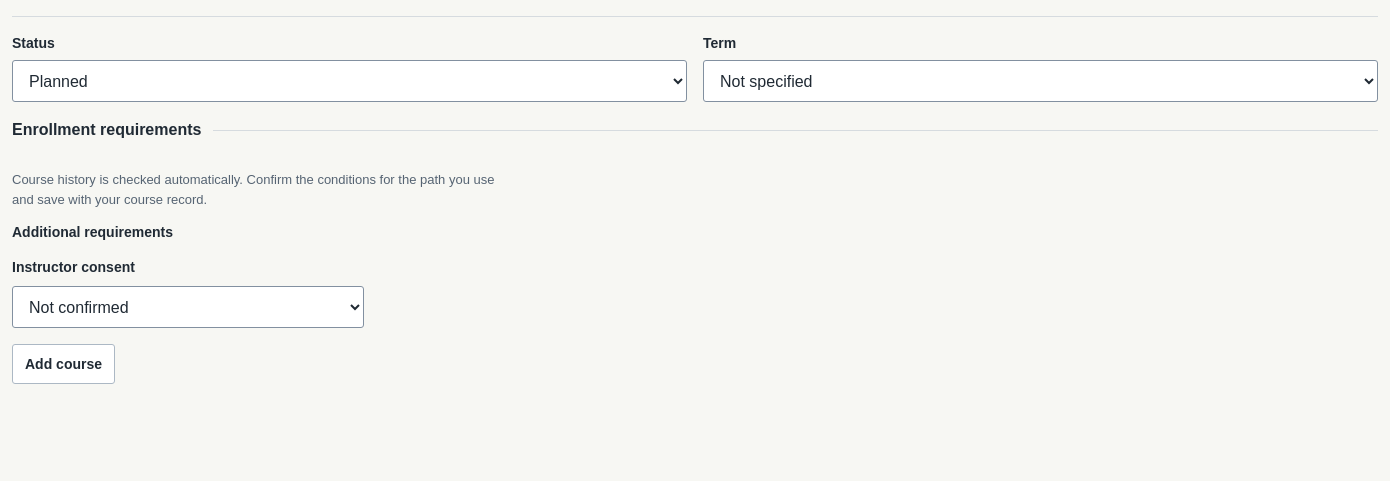
RecordEditor › preserves draft answers when a combined save fails
The image size is (1390, 481).
Select "I meet this requirement" in the dropdown labelled "Instructor consent" at [188, 307], box top-left (12, 286), bottom-right (364, 328)
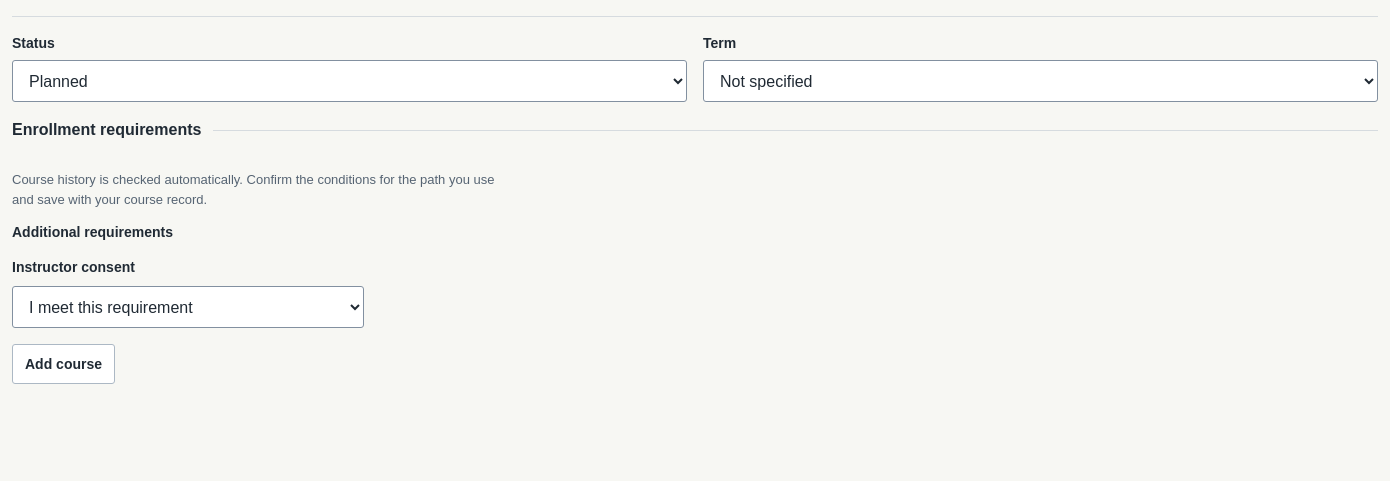
Click the button "Add course" at [64, 364], box top-left (12, 344), bottom-right (115, 384)
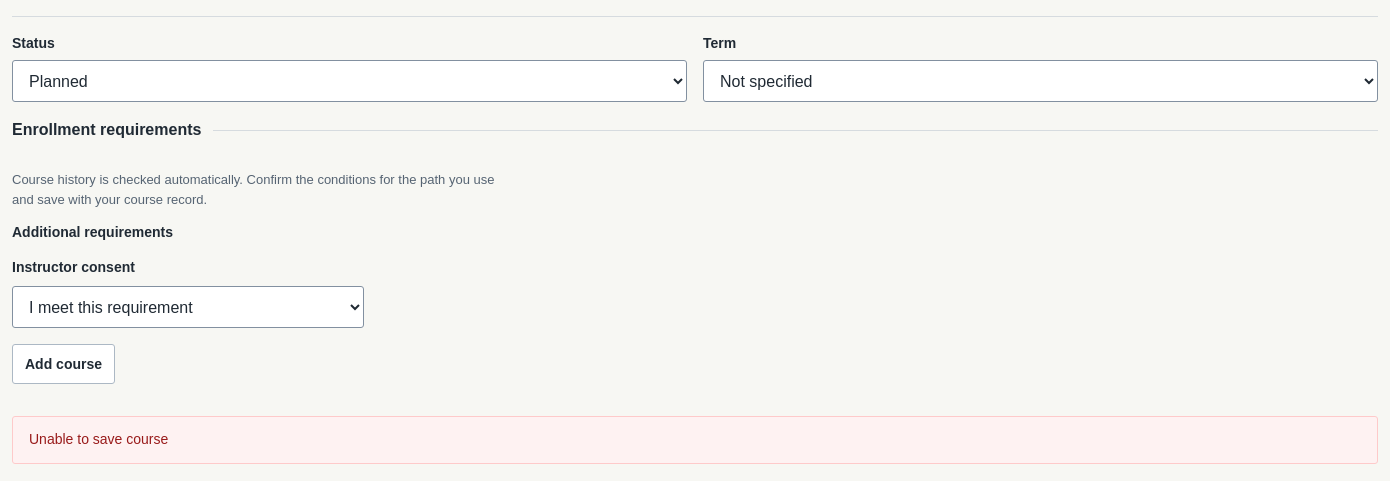
Check: the text "Unable to save course" is shown, box top-left (29, 431), bottom-right (168, 447)
